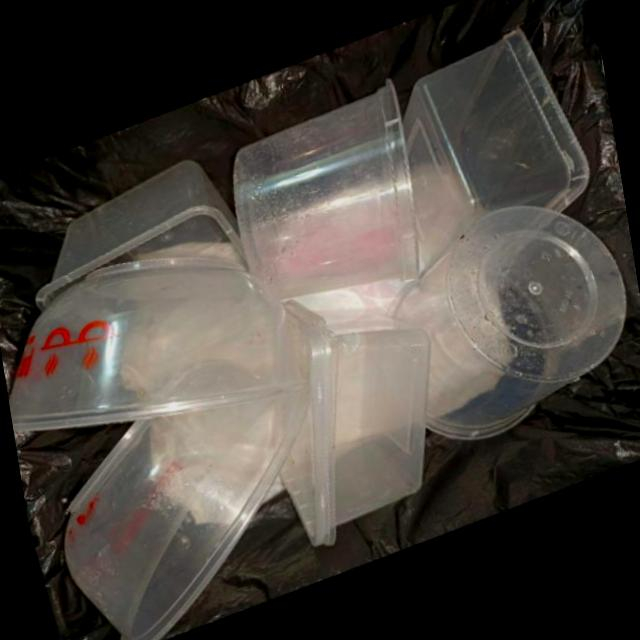hop_nhua: (60, 387, 307, 640), (385, 212, 625, 447), (7, 260, 306, 433), (398, 35, 587, 280), (228, 84, 420, 306), (278, 302, 428, 551), (31, 162, 243, 310)
